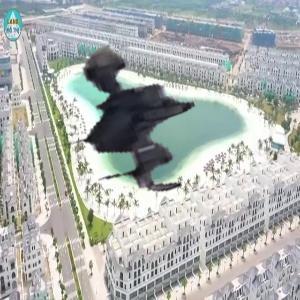drone: (17, 37, 198, 218)
